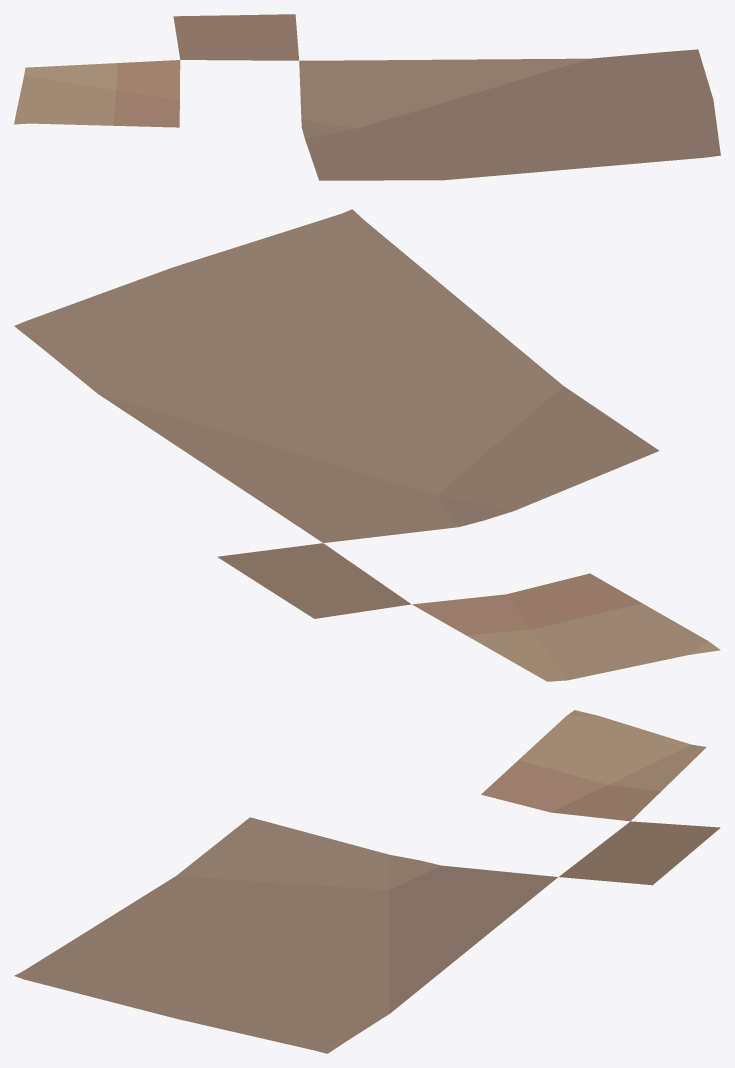
Rendered from farm_-10_1_soil.glb.
3 renders of one model, top to bottom at view 1: azimuth 30°, elevation 25°; view 2: azimuth 150°, elevation 25°; view 3: azimuth 270°, elevation 25°, orthographic. The views are drawn at different scales.
Visible parts, largest first — view 1: geometry_0; view 2: geometry_0; view 3: geometry_0.
Boxes of the visible parts, left/top/right/bottom form: geometry_0: left=14, top=14, right=720, bottom=180; geometry_0: left=14, top=209, right=720, bottom=681; geometry_0: left=14, top=710, right=720, bottom=1053.
Bounding box in the file's own units: 182 × 9.85 × 154.
